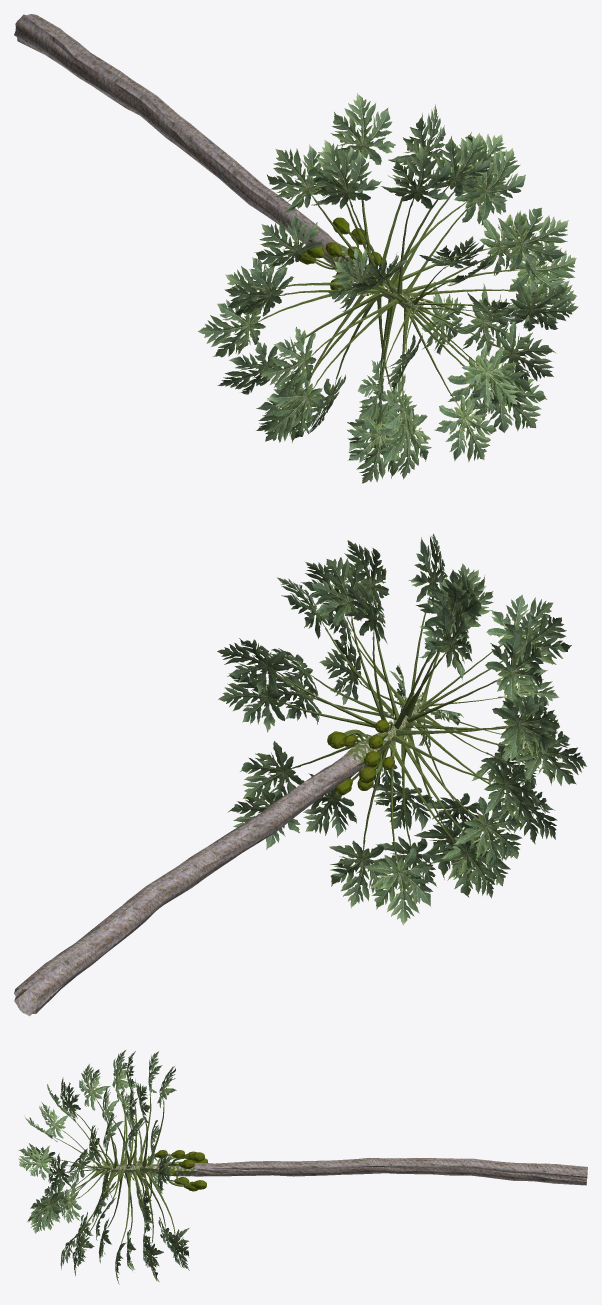
3 views of the same model, one above another, from view 1: azimuth 30°, elevation 25°; view 2: azimuth 150°, elevation 25°; view 3: azimuth 270°, elevation 25° (orthographic). The views are drawn at different scales.
Visible parts, largest first — view 1: FR01a; view 2: FR01a; view 3: FR01a.
Part boxes in pixels (<box>): FR01a: <box>14,14,578,483</box>; FR01a: <box>14,533,586,1016</box>; FR01a: <box>18,1050,587,1284</box>.
Size of the model in its own units: 3.62 by 3.61 by 8.48.
Materials: 7 (7 with a texture image).
